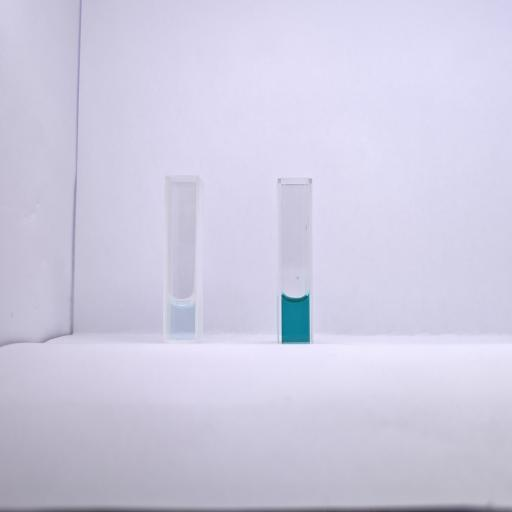cuvette: (275, 175, 315, 346), (162, 172, 200, 345)
liquid: (281, 296, 309, 342), (169, 298, 195, 340)
